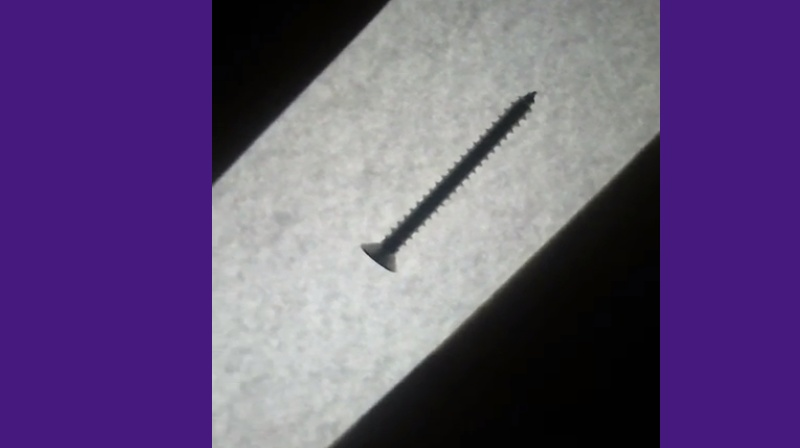S002: (359, 88, 541, 277)
